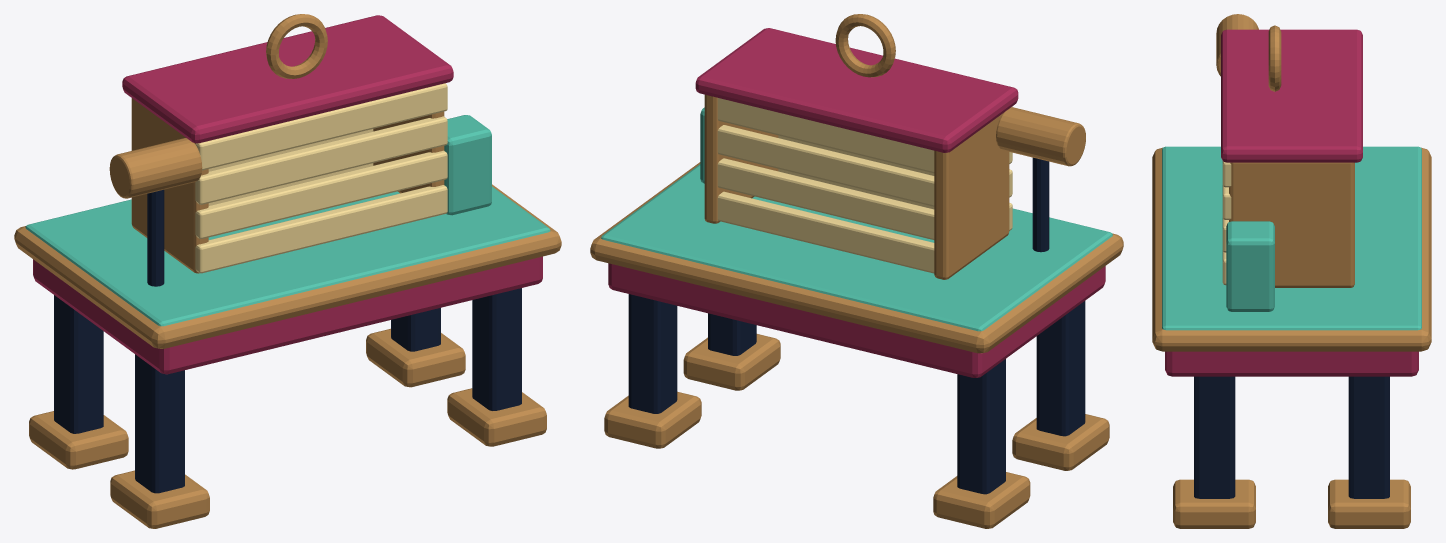
File: BlindAuction.fbx
3 views of the same model, side by side, from view 1: azimuth 30°, elevation 25°; view 2: azimuth 150°, elevation 25°; view 3: azimuth 270°, elevation 25° (orthographic). The views are drawn at different scales.
Parts seen in each view (by area): view 1: BlindAuction.Mesh, BlindAuction.Lid.Mesh, BlindAuction.Gavel.Mesh; view 2: BlindAuction.Mesh, BlindAuction.Lid.Mesh, BlindAuction.Gavel.Mesh; view 3: BlindAuction.Mesh, BlindAuction.Lid.Mesh, BlindAuction.Gavel.Mesh.
Boxes of the visible parts, left/top/right/bottom form: BlindAuction.Mesh: left=14, top=83, right=561, bottom=528; BlindAuction.Lid.Mesh: left=122, top=14, right=453, bottom=143; BlindAuction.Gavel.Mesh: left=109, top=138, right=202, bottom=286; BlindAuction.Mesh: left=590, top=94, right=1123, bottom=528; BlindAuction.Lid.Mesh: left=695, top=14, right=1018, bottom=152; BlindAuction.Gavel.Mesh: left=996, top=107, right=1085, bottom=252; BlindAuction.Mesh: left=1152, top=146, right=1431, bottom=528; BlindAuction.Lid.Mesh: left=1221, top=25, right=1362, bottom=162; BlindAuction.Gavel.Mesh: left=1216, top=14, right=1258, bottom=76.
Size of the model in its own units: 250 by 252 by 155.
